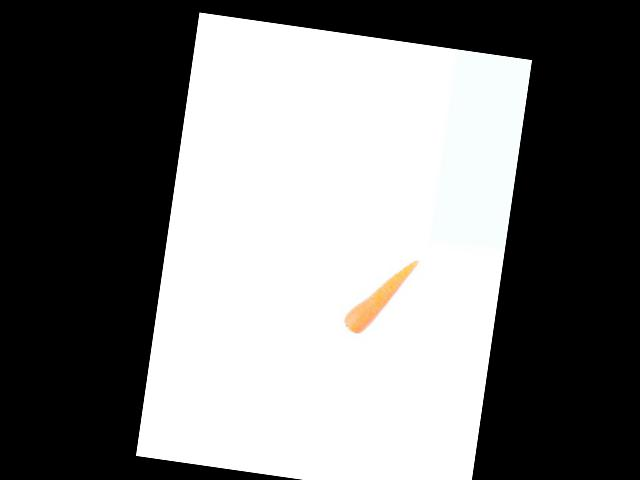carrot: (341, 250, 420, 343)
